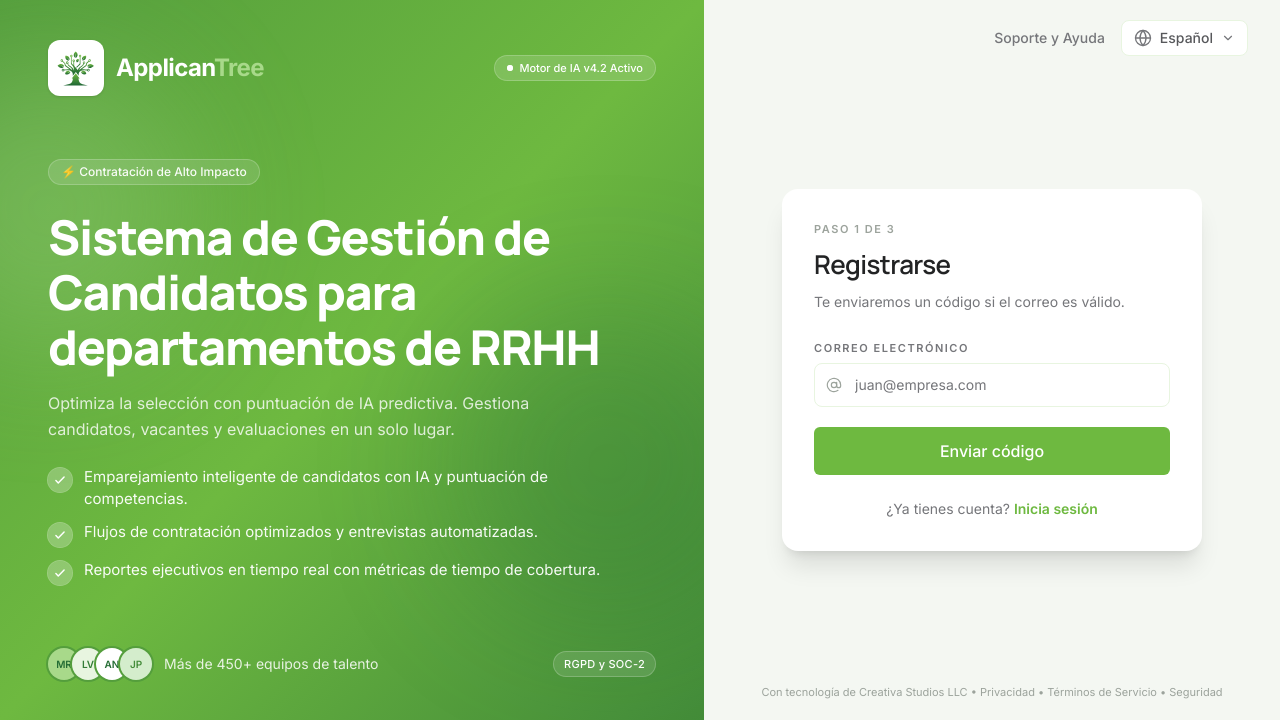
Registro con One-Time Password › avanza a código con el mismo resultado si el correo es nuevo
Type "nuevo@ejemplo.com" into the field with test id "auth-register-email" at (992, 385), box 814,363 -> 1170,407
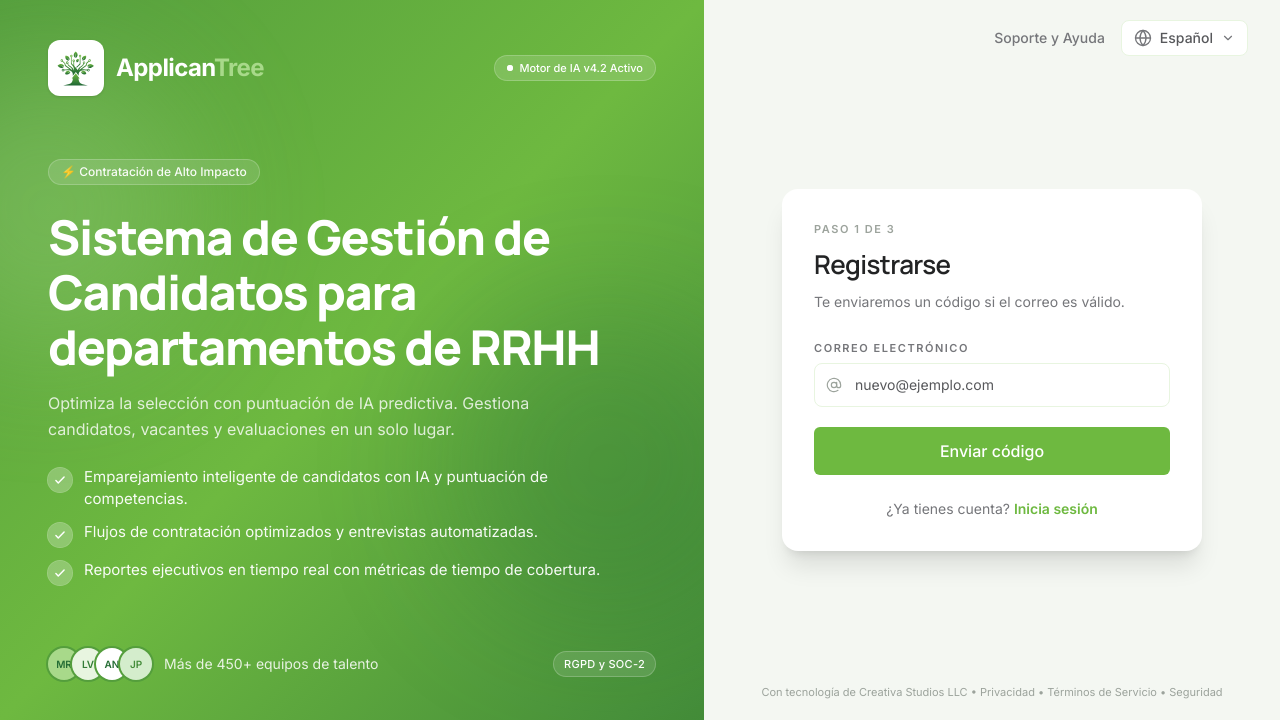
Submit the form with test id "auth-register-form", box 814,340 -> 1170,475
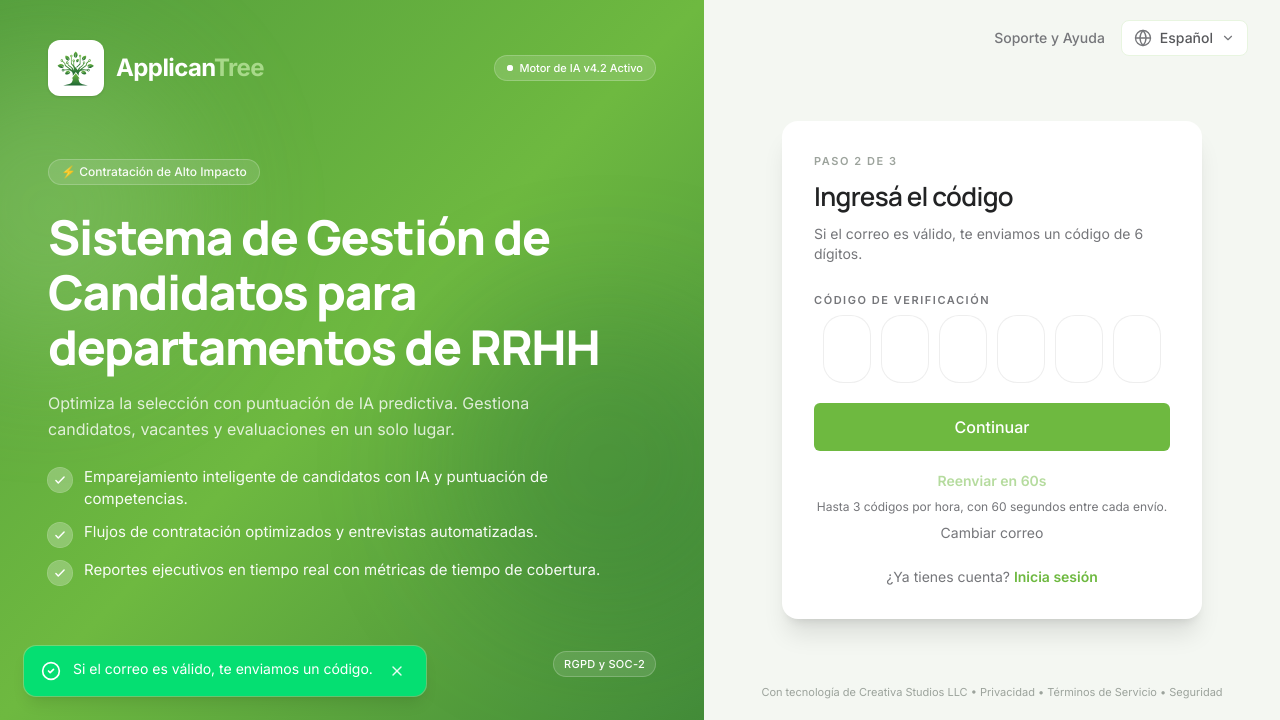
Now the element with test id "auth-register-code" is shown, box 814,292 -> 1170,383
Now the message with test id "app-snackbar" shows "Si el correo es válido", box 73,660 -> 373,677
